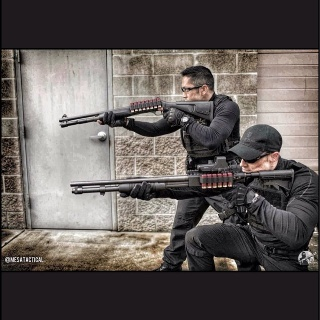rifle: (69, 156, 296, 199), (59, 97, 215, 129)
